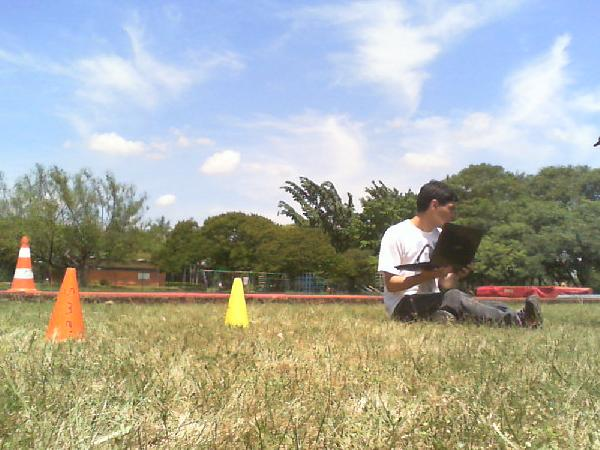0 cone: (46, 268, 85, 341), (7, 237, 37, 293), (225, 278, 249, 328)
